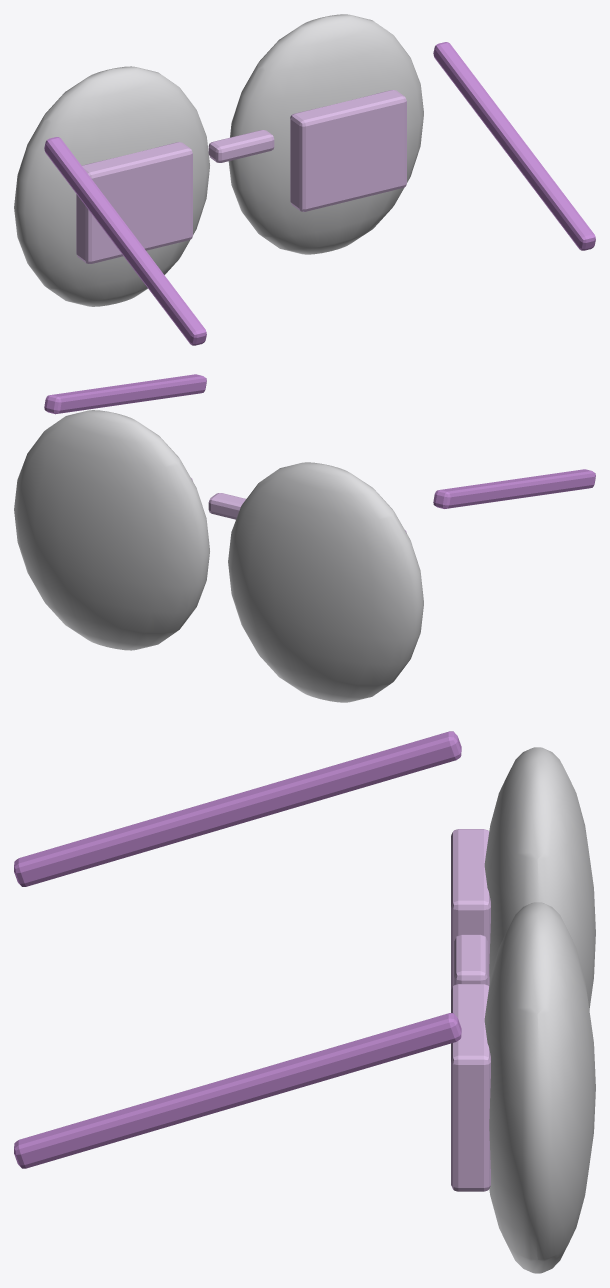
Rendered from VM-ACC-EXT155.glb.
3 renders of one model, top to bottom at view 1: azimuth 30°, elevation 25°; view 2: azimuth 150°, elevation 25°; view 3: azimuth 270°, elevation 25°, orthographic. The views are drawn at different scales.
Visible parts, largest first — view 1: Gafas de Sol Clásicas; view 2: Gafas de Sol Clásicas; view 3: Gafas de Sol Clásicas.
Part boxes in pixels (box(x1,y1,x2,y2)): Gafas de Sol Clásicas: box(14, 14, 595, 345); Gafas de Sol Clásicas: box(14, 374, 595, 702); Gafas de Sol Clásicas: box(14, 731, 595, 1273).
Size of the model in its own units: 0.2276 by 0.1256 by 0.1907.
